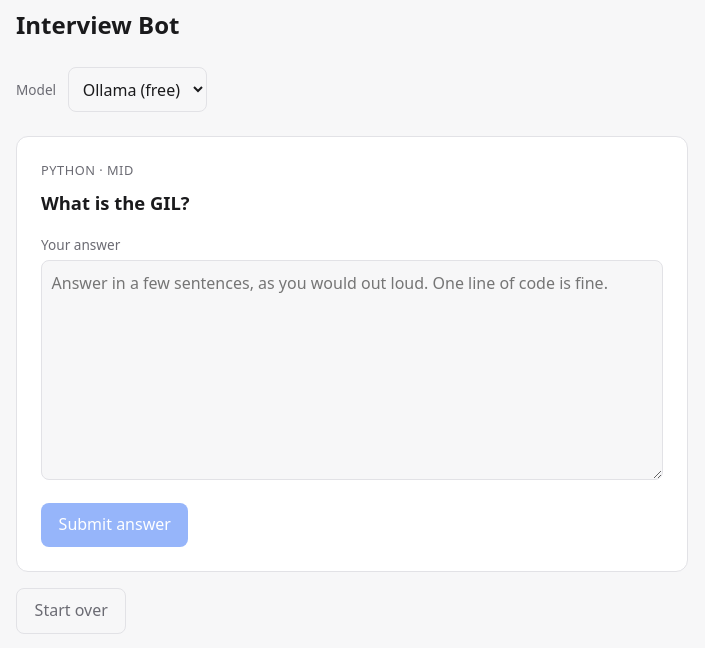
resuming › brings a resumed interview's topics back to the picker
Expected: the heading "What is the GIL?" is shown, x1=41 y1=190 x2=190 y2=215
Click the button "Start over". click: (71, 611)
box: x1=16 y1=588 x2=126 y2=634
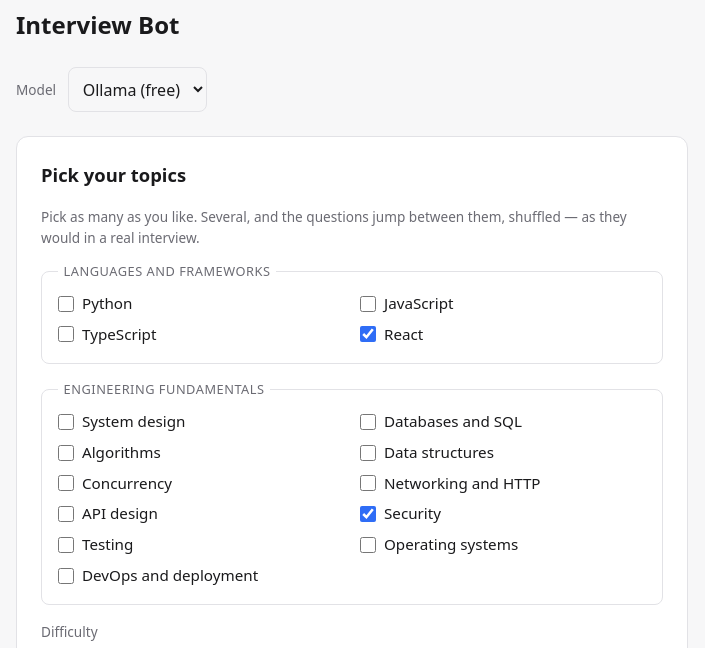
Now the checkbox labelled "React" is checked, box x1=360 y1=326 x2=376 y2=342
Now the checkbox labelled "Security" is checked, box x1=360 y1=506 x2=376 y2=522
Now the checkbox labelled "Python" is not checked, box x1=58 y1=296 x2=74 y2=312
